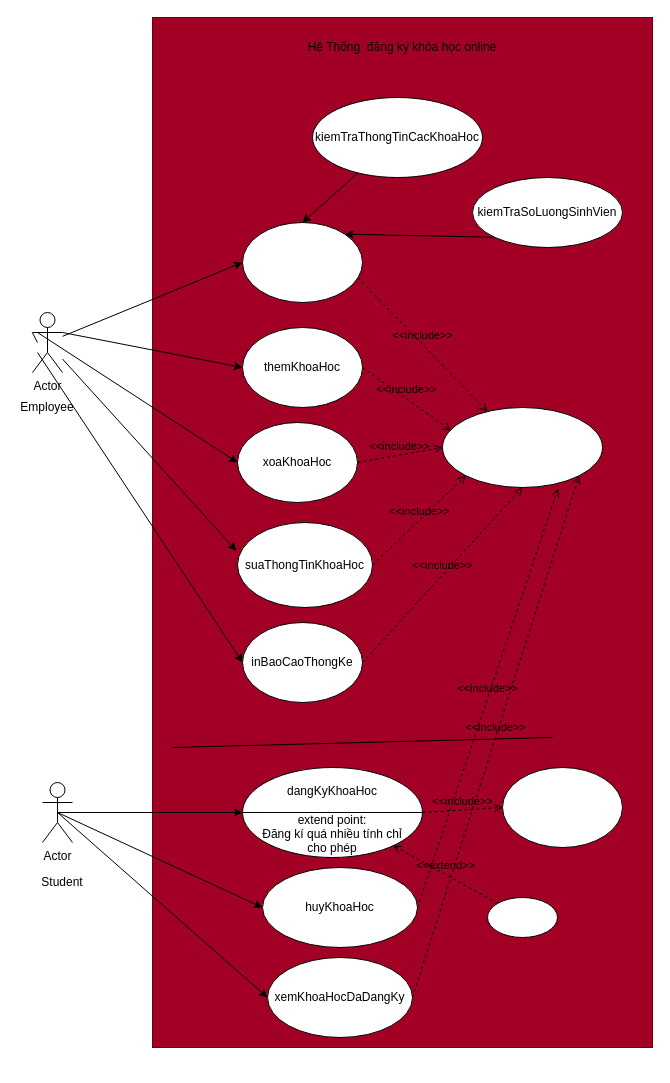
The diagram is 670 pixels wide and 1083 high, and some of its shapes have lost their labels. The shapes that lost their labels are listed below. From the top down, each one's centre as x and y in pixels, then its label:
At pixel 302 262: "kiemTraThongTin".
At pixel 522 447: "dangNhap".
At pixel 562 807: "Đăng Ký Mã SV".
At pixel 522 917: "canhBao".
